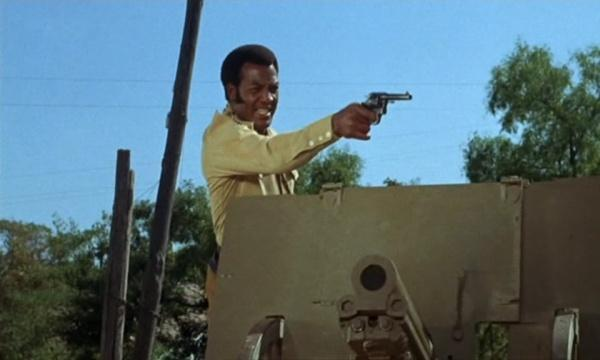Gun: (363, 91, 413, 126)
